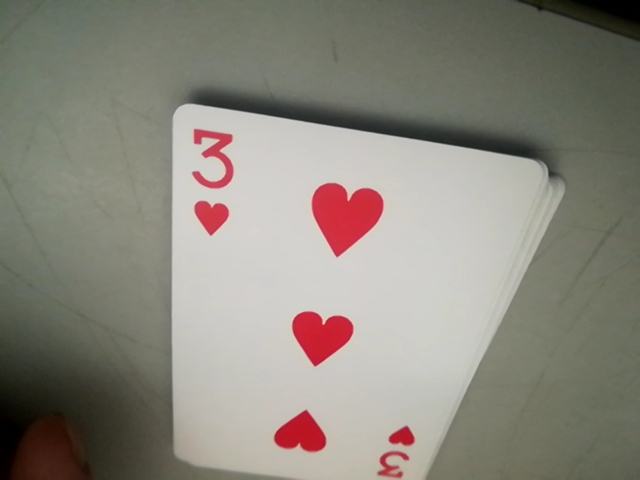hx 3: (190, 127, 234, 239), (368, 425, 424, 480)
